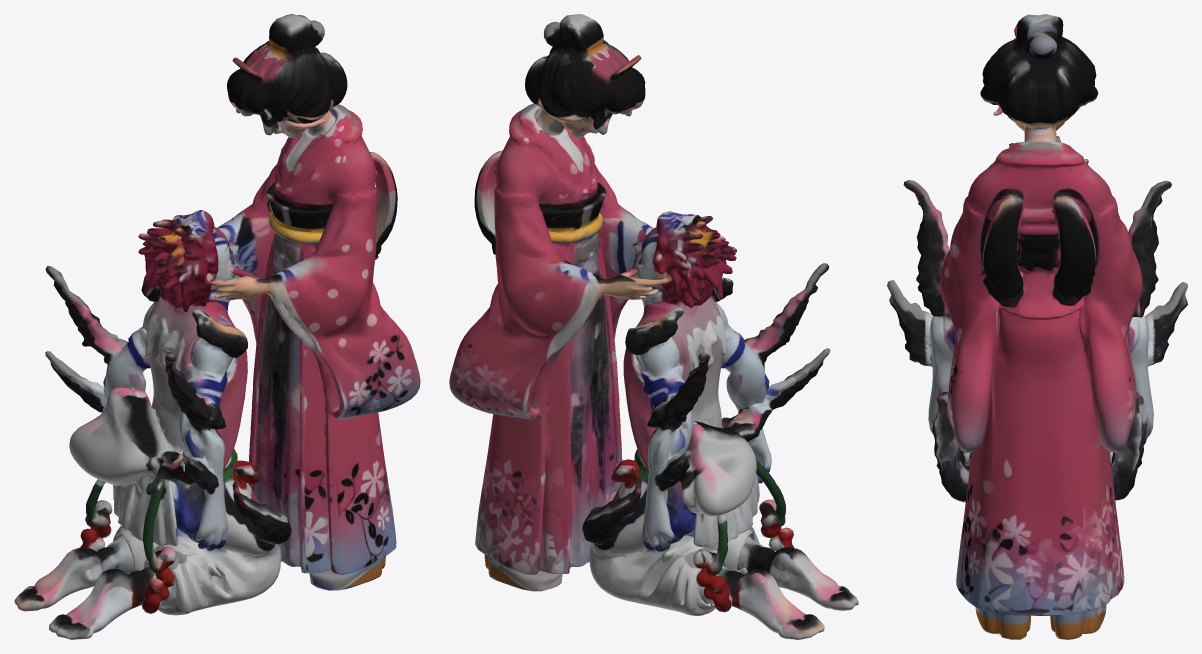
The model's file is koyuki-akaza.glb.
3 renders of one model, left to right at view 1: azimuth 30°, elevation 25°; view 2: azimuth 150°, elevation 25°; view 3: azimuth 270°, elevation 25°, orthographic. The views are drawn at different scales.
Parts seen in each view (by area): view 1: tripo_node_c3664f0d-740d-4135-8bfe-850b55bc97a3; view 2: tripo_node_c3664f0d-740d-4135-8bfe-850b55bc97a3; view 3: tripo_node_c3664f0d-740d-4135-8bfe-850b55bc97a3.
Boxes of the visible parts, bbox=[...] form: tripo_node_c3664f0d-740d-4135-8bfe-850b55bc97a3: bbox=[14, 14, 420, 639]; tripo_node_c3664f0d-740d-4135-8bfe-850b55bc97a3: bbox=[449, 14, 858, 639]; tripo_node_c3664f0d-740d-4135-8bfe-850b55bc97a3: bbox=[887, 14, 1187, 639].
Size of the model in its own units: 0.6627 by 1 by 0.4661.
1 material, 1 textured.
